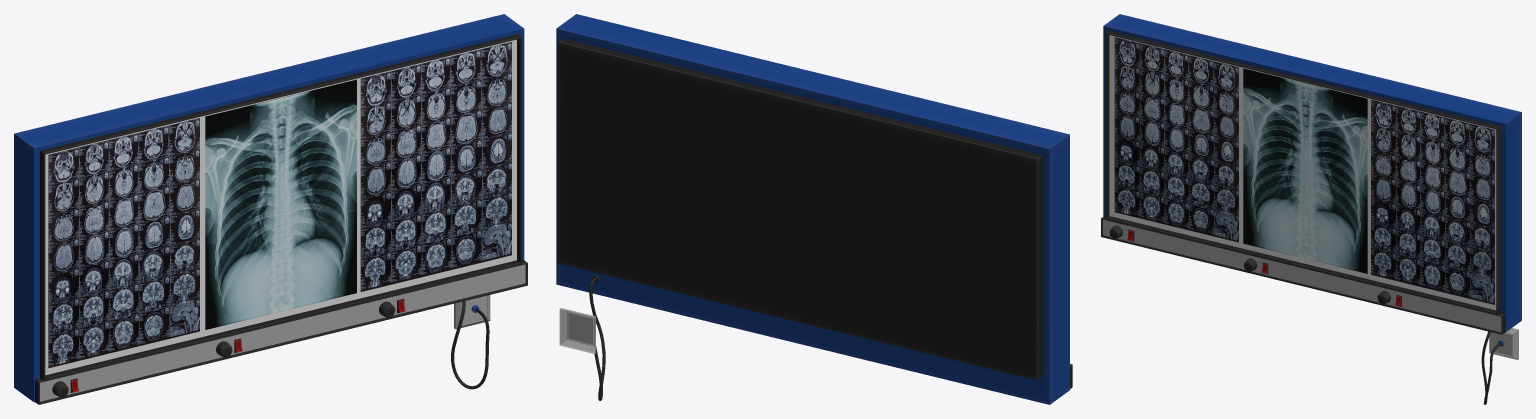
The model's file is X-Ray Monitor.fbx.
3 views of the same model, side by side, from view 1: azimuth 30°, elevation 25°; view 2: azimuth 150°, elevation 25°; view 3: azimuth 330°, elevation 25° (orthographic). The views are drawn at different scales.
Visible parts, largest first — view 1: X_Ray_Monitor; view 2: X_Ray_Monitor; view 3: X_Ray_Monitor.
Boxes of the visible parts, x1=… form: X_Ray_Monitor: x1=14, y1=14, x2=527, y2=404; X_Ray_Monitor: x1=556, y1=14, x2=1072, y2=404; X_Ray_Monitor: x1=1101, y1=14, x2=1521, y2=404.
Size of the model in its own units: 113 by 79.53 by 13.74.
